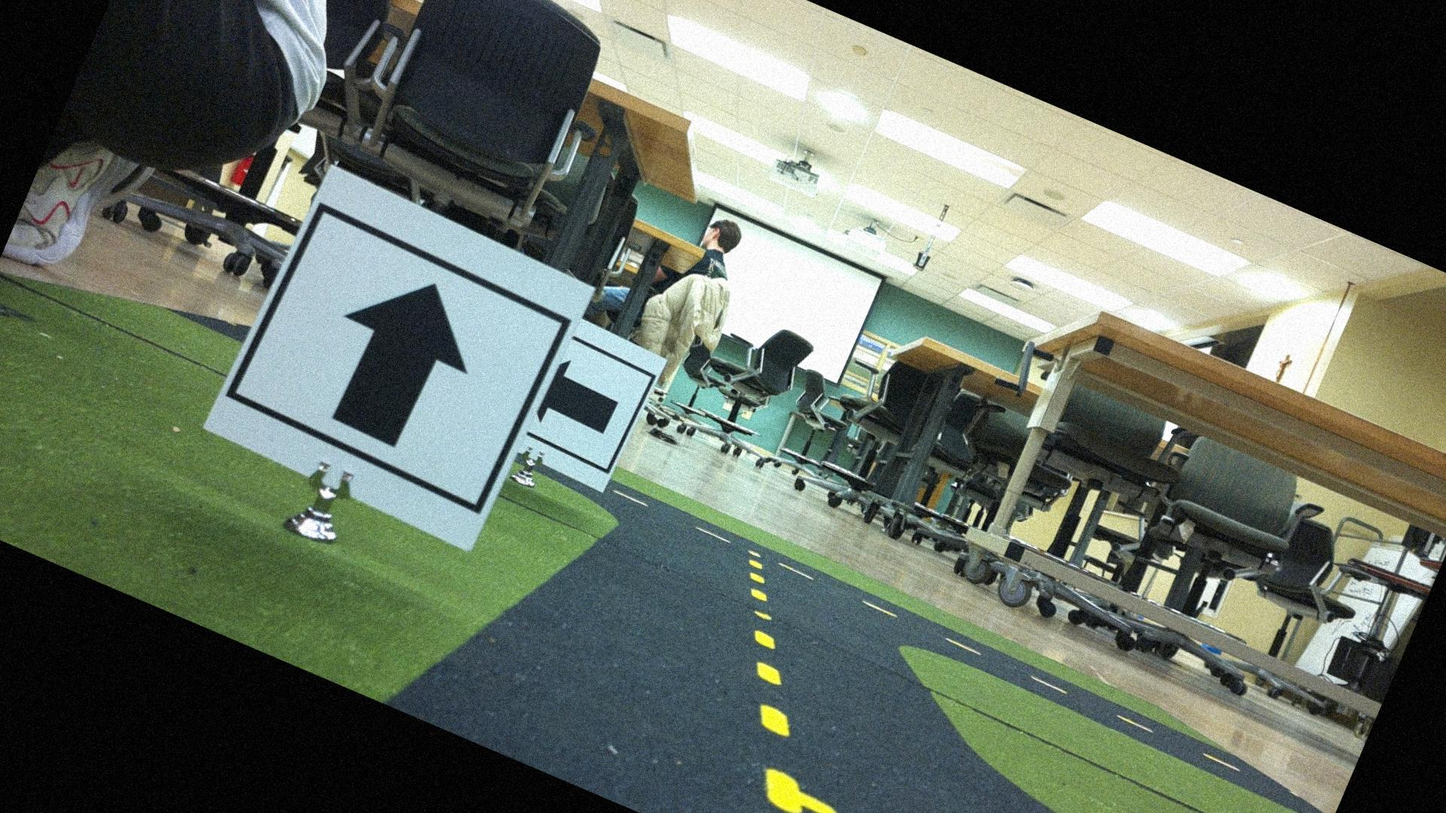gostraight: (213, 170, 591, 558)
yellowline: (664, 550, 883, 812)
